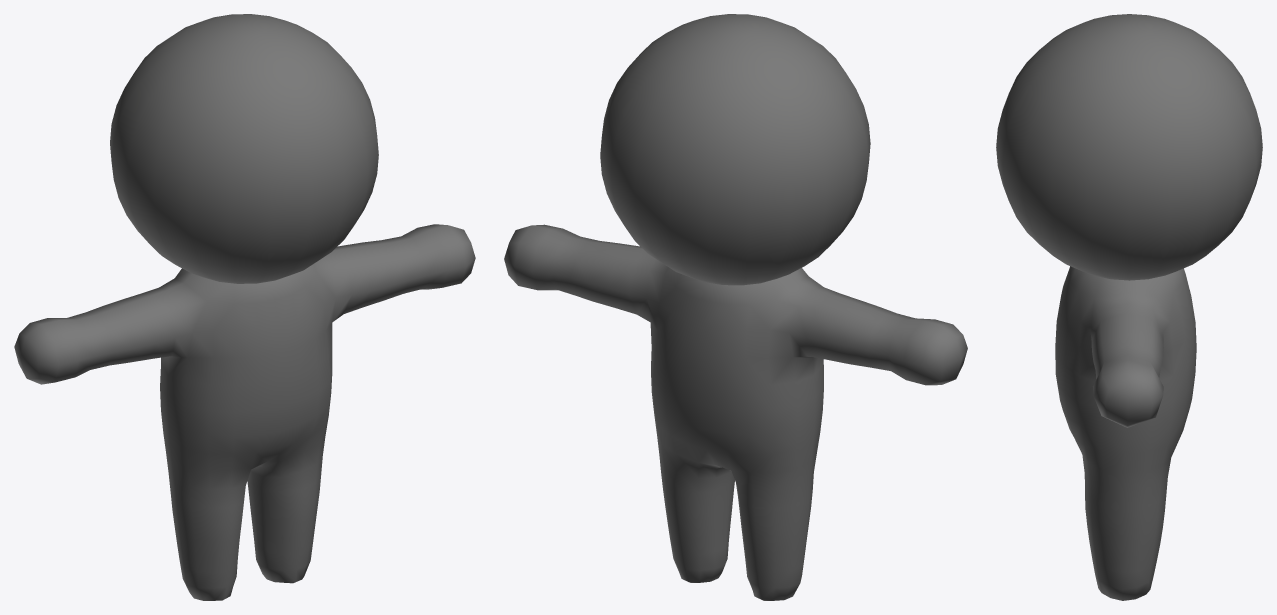
File: ketrom.fbx
3 views of the same model, side by side, from view 1: azimuth 30°, elevation 25°; view 2: azimuth 150°, elevation 25°; view 3: azimuth 270°, elevation 25° (orthographic).
Visible parts, largest first — view 1: ketrom; view 2: ketrom; view 3: ketrom.
Part boxes in pixels (left/top/right/bottom): ketrom: left=14, top=14, right=475, bottom=600; ketrom: left=504, top=14, right=967, bottom=600; ketrom: left=996, top=14, right=1262, bottom=600.
Size of the model in its own units: 225 by 268 by 117.
